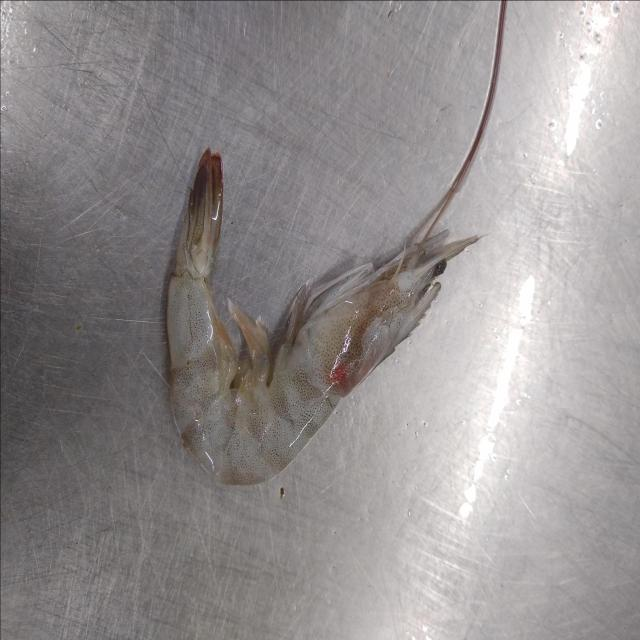shrimp: (166, 1, 505, 485)
